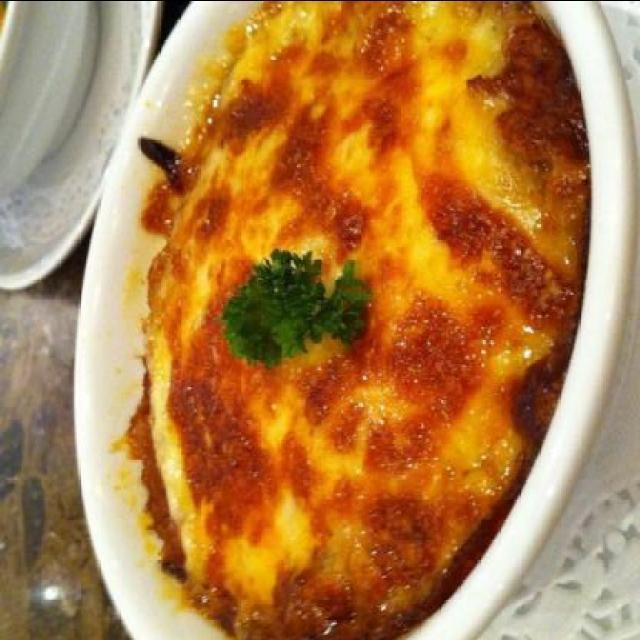Lasagna: (157, 14, 560, 582)
